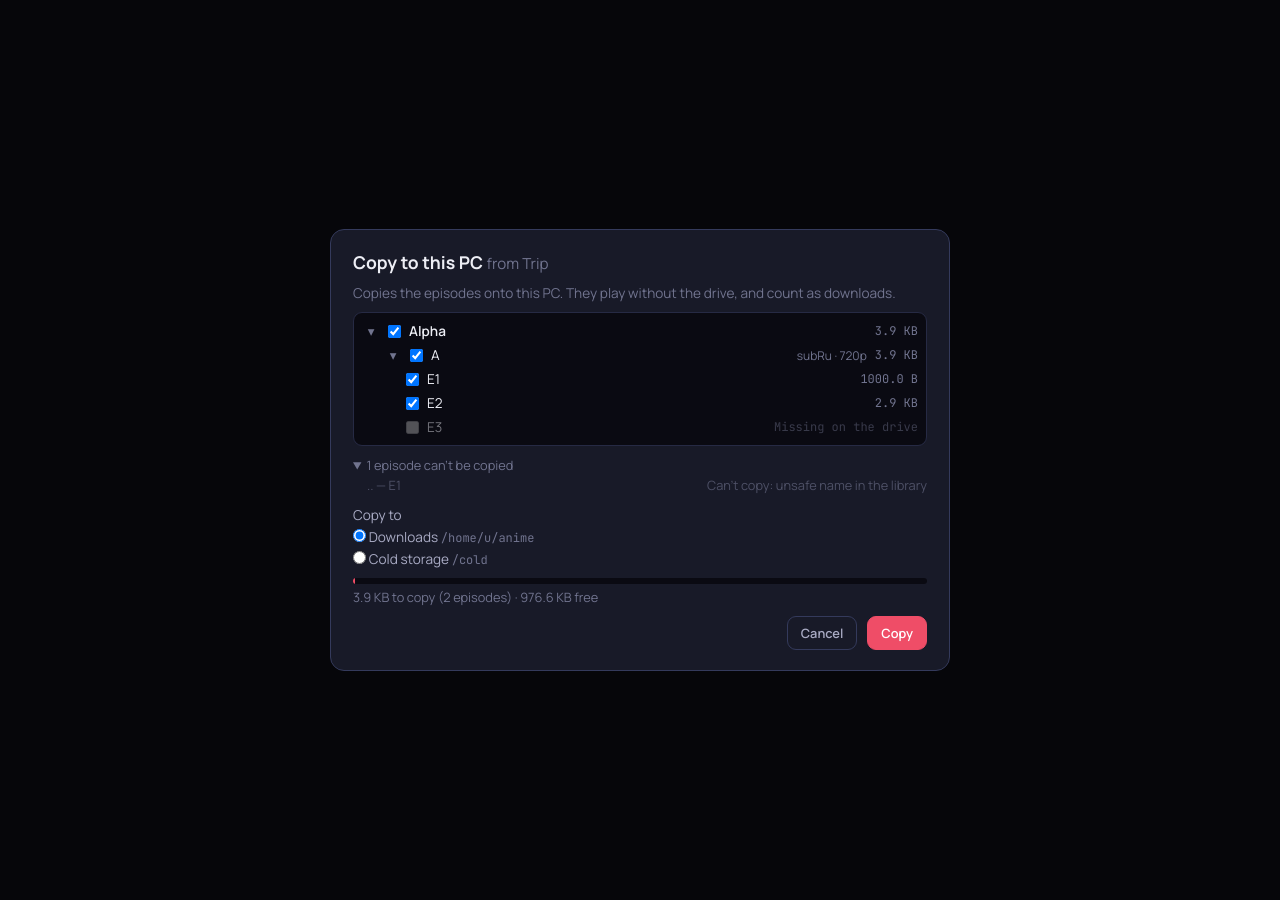
Scenario: ImportDialog › starts with the selection and the destination, and shows a refusal
Click the radio button with test id "import-dest-cold".
click(360, 558)  # box [353, 551, 366, 564]
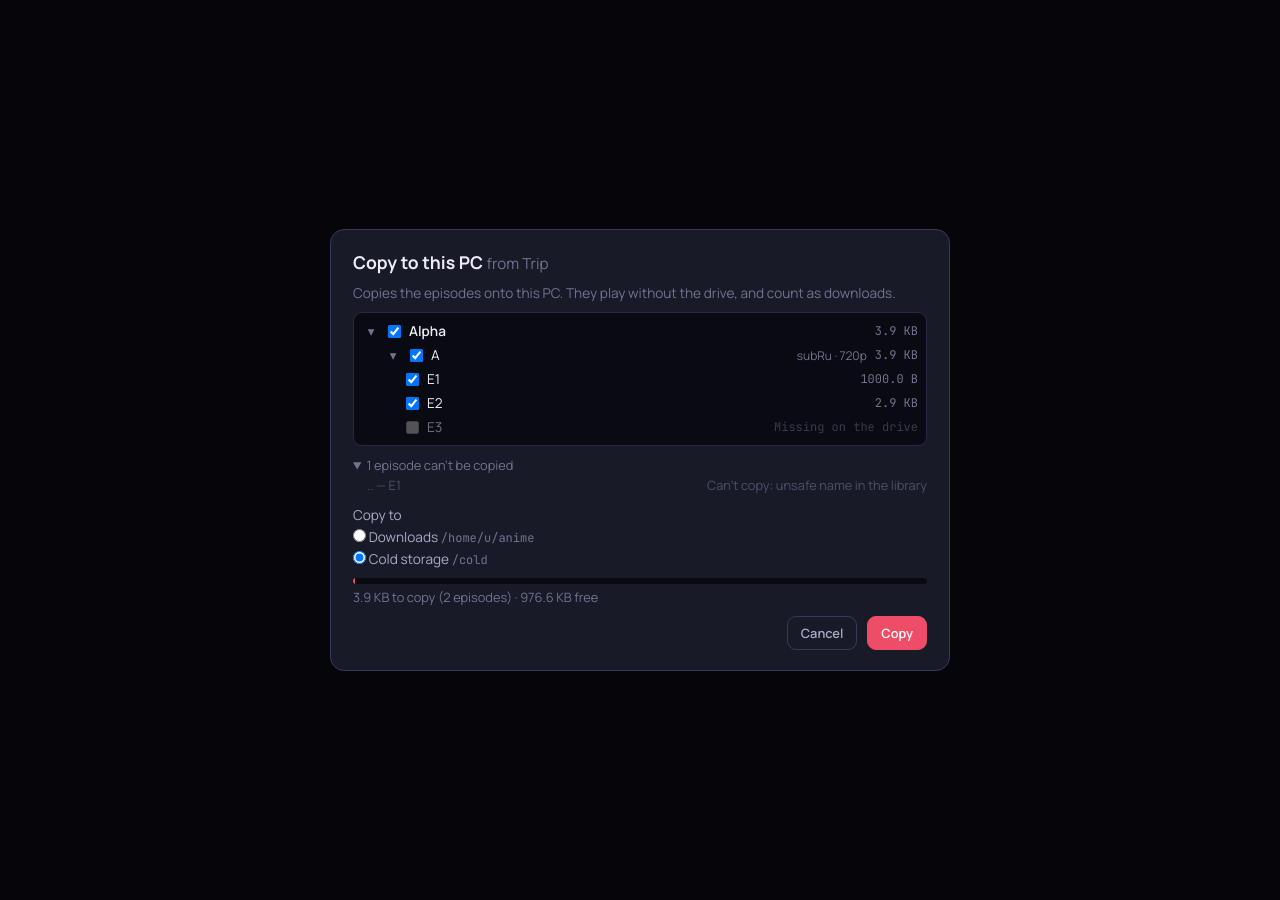
Click the button with test id "import-start".
click(897, 633)  # box [867, 616, 927, 650]
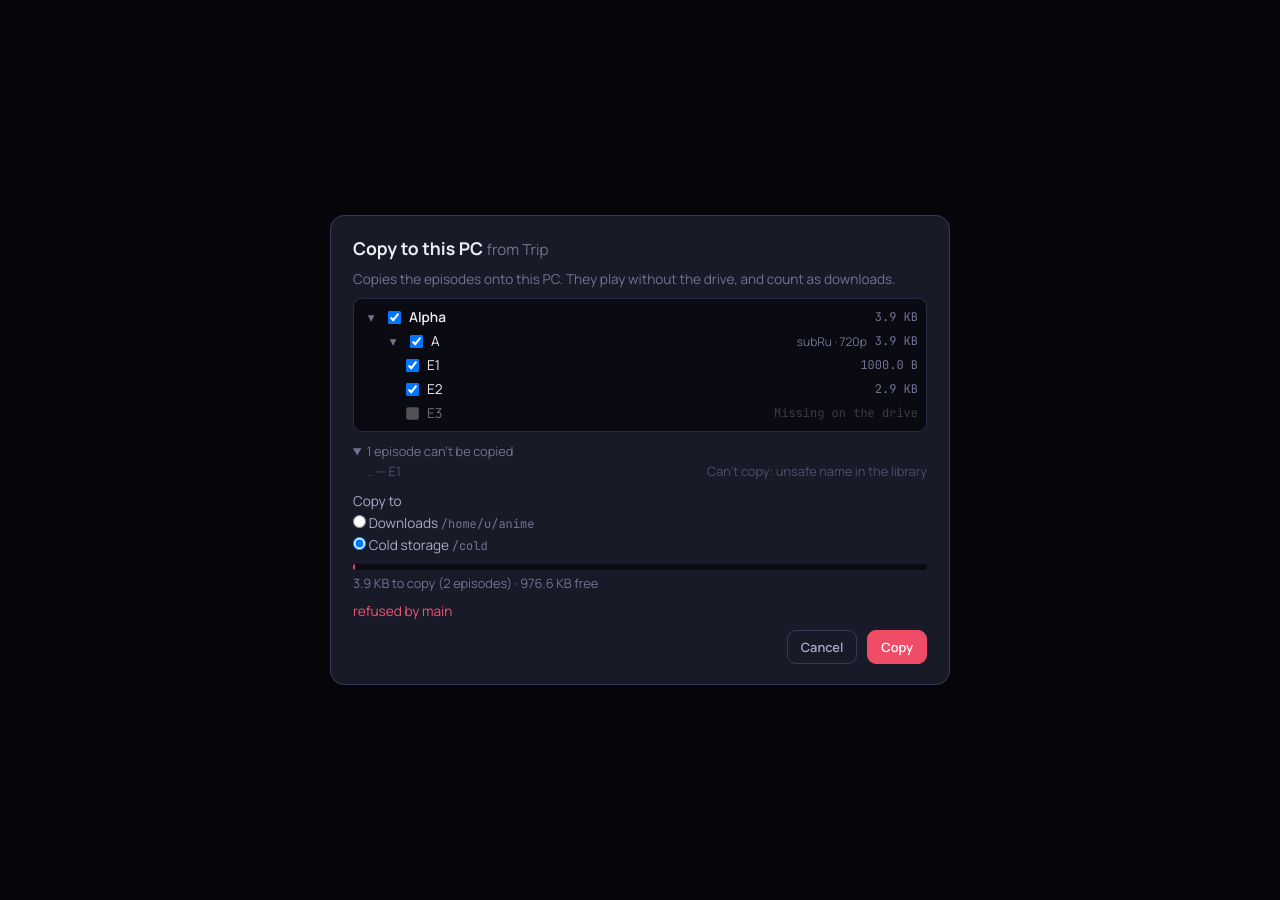
Expected: the text with class "error" reads "refused by main", [353, 602, 452, 620]
